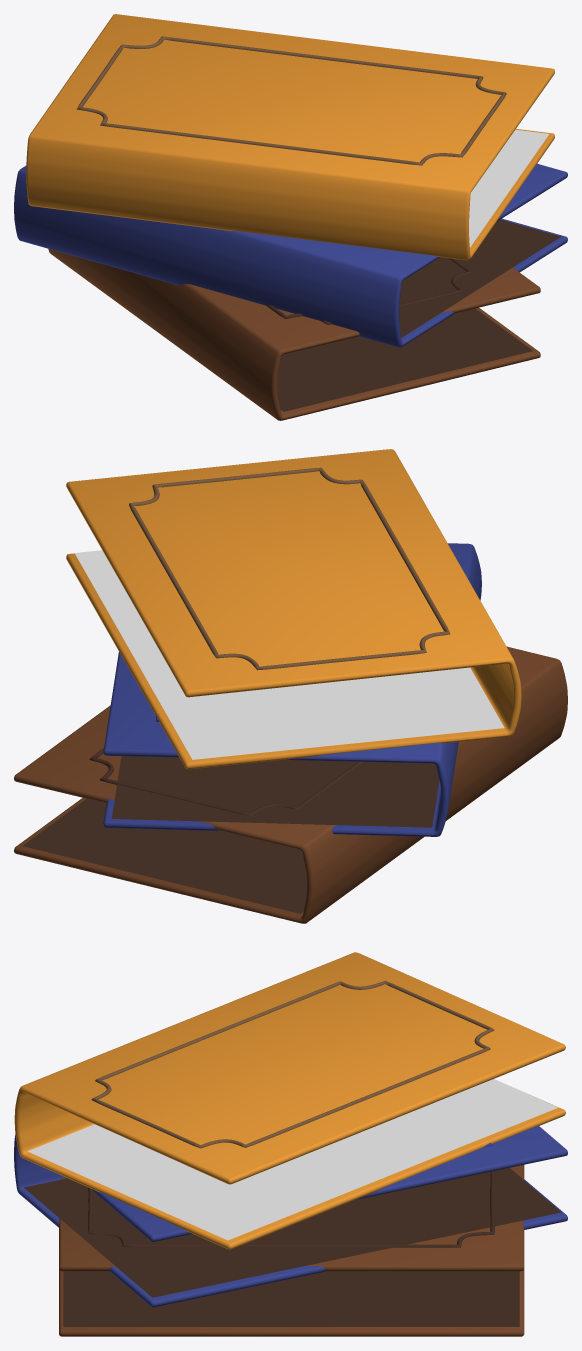
Rendered from books.fbx.
3 views of the same model, one above another, from view 1: azimuth 30°, elevation 25°; view 2: azimuth 150°, elevation 25°; view 3: azimuth 270°, elevation 25° (orthographic). The views are drawn at different scales.
Parts seen in each view (by area): view 1: cover; view 2: cover; view 3: cover.
Boxes of the visible parts, left/top/right/bottom form: cover: left=14, top=14, right=567, bottom=420; cover: left=14, top=449, right=567, bottom=923; cover: left=14, top=952, right=567, bottom=1336.
Bounding box in the file's own units: 235 × 99.48 × 238.
